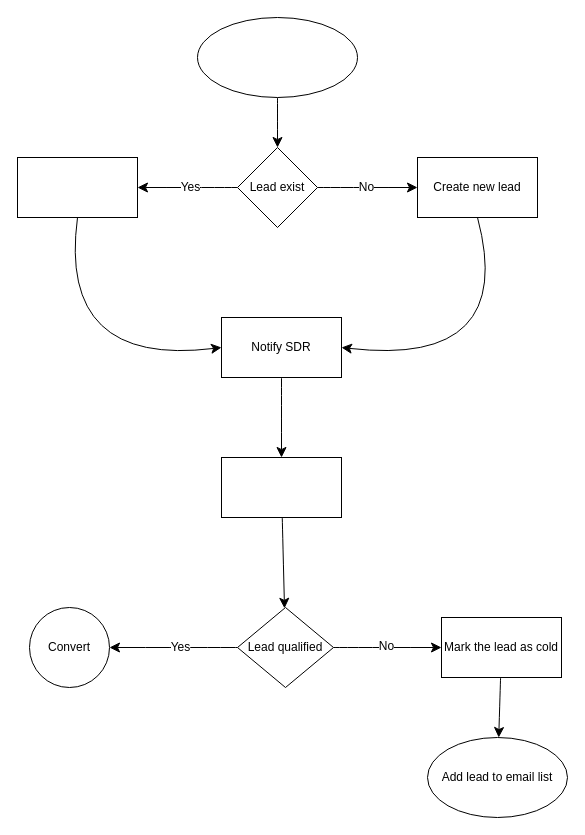
Some shapes in this 585 by 835 pixel diagram are drawn without their labels. Here are the shapes that lost their labels. From the top down, the centre of each, then its label:
At pixel 277 57: "Leads fills out interest form".
At pixel 77 187: "Update the existing lead".
At pixel 281 487: "SDR Follow up with lead".
